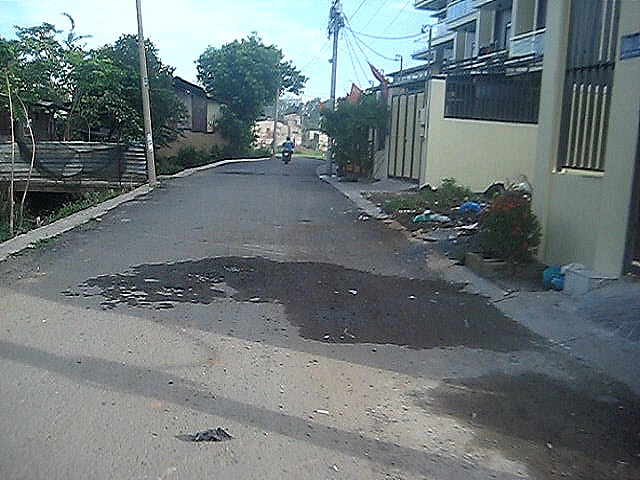hole: (186, 270, 225, 282), (156, 283, 188, 297), (221, 262, 255, 275)
